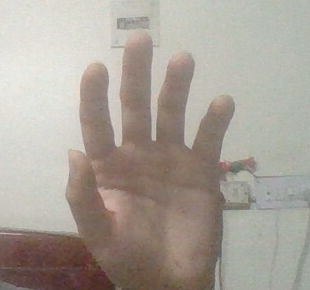move: (63, 27, 257, 284)
